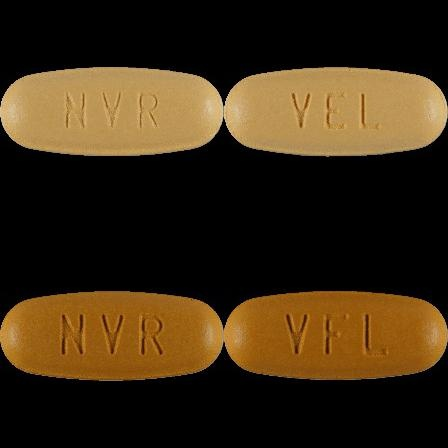0078-0560: (0, 0, 224, 224)
